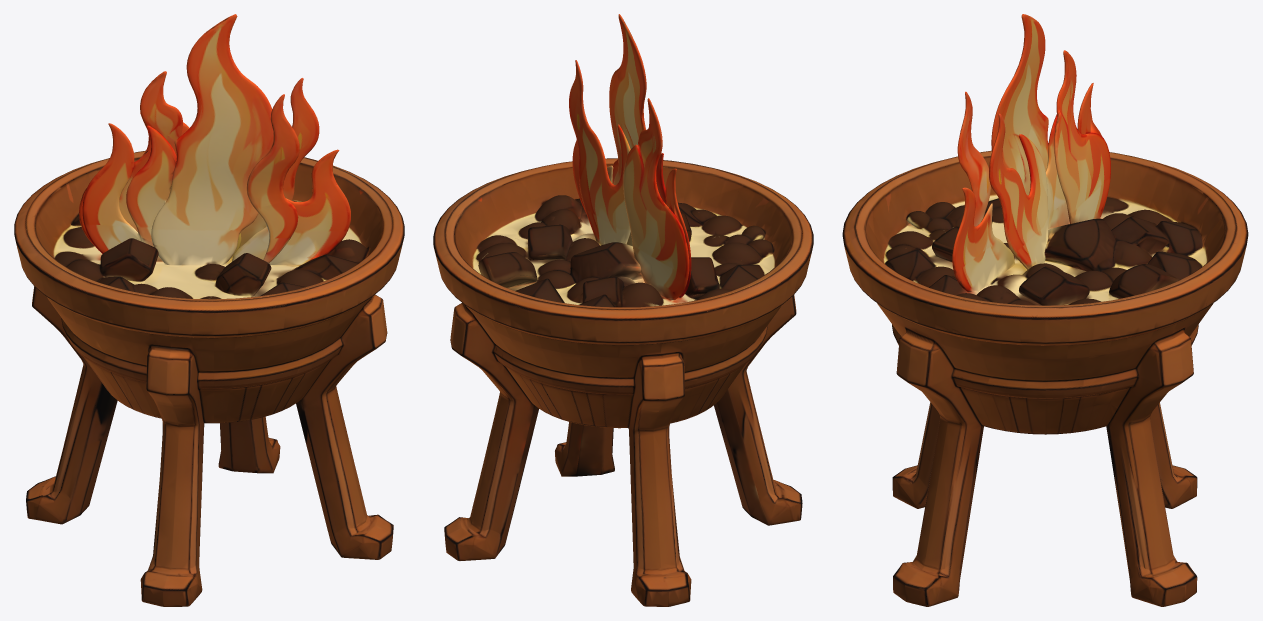
File: prop_brazier.glb
3 renders of one model, left to right at view 1: azimuth 30°, elevation 25°; view 2: azimuth 150°, elevation 25°; view 3: azimuth 270°, elevation 25°, orthographic. The views are drawn at different scales.
Parts seen in each view (by area): view 1: material; view 2: material; view 3: material.
Part boxes in pixels (box(x1,y1,x2,y2)): material: box(14, 14, 404, 606); material: box(433, 14, 813, 606); material: box(842, 14, 1248, 606).
Bounding box in the file's own units: 0.684 × 1 × 0.6863.
1 material, 1 textured.
